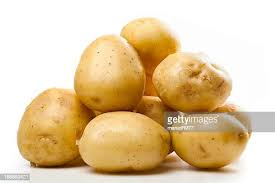potato: (72, 30, 145, 110), (13, 85, 83, 168), (78, 113, 172, 170), (151, 48, 232, 112)
